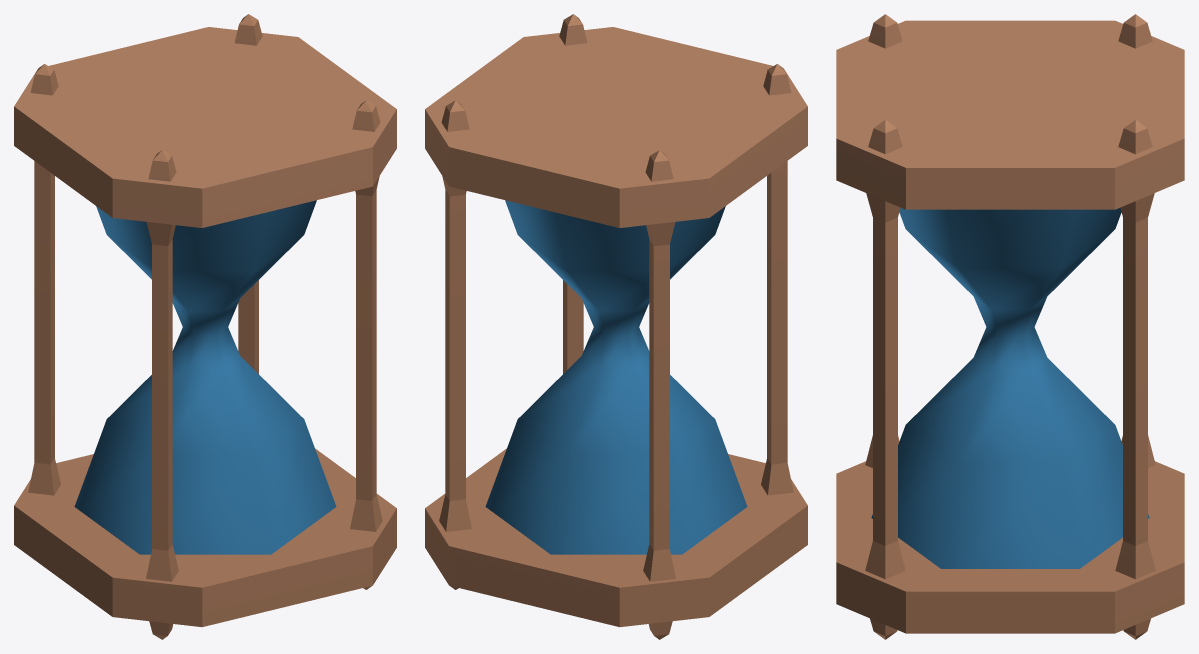
The model's file is Hourglass_C.fbx.
The picture shows the model from 3 angles, left to right: view 1: azimuth 30°, elevation 25°; view 2: azimuth 150°, elevation 25°; view 3: azimuth 270°, elevation 25°; orthographic projection. The views are drawn at different scales.
Parts seen in each view (by area): view 1: Hourglass_C; view 2: Hourglass_C; view 3: Hourglass_C.
Part boxes in pixels (x1,y1,x2,y2): Hourglass_C: [14, 14, 396, 639]; Hourglass_C: [425, 14, 807, 639]; Hourglass_C: [836, 14, 1184, 639].
Bounding box in the file's own units: 20.29 × 33.41 × 20.29.
